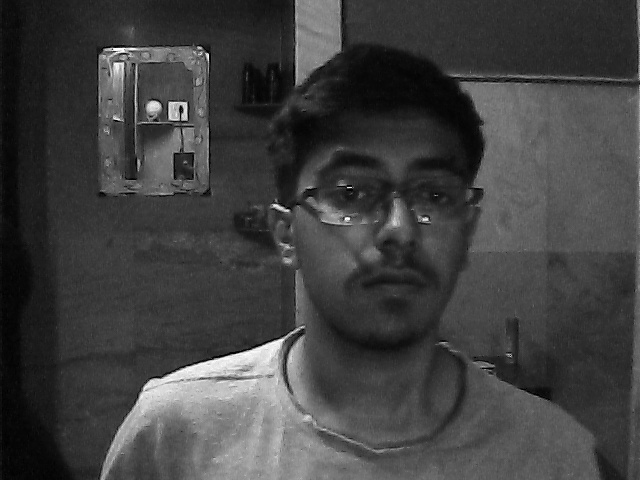nomask: (295, 96, 475, 345)
